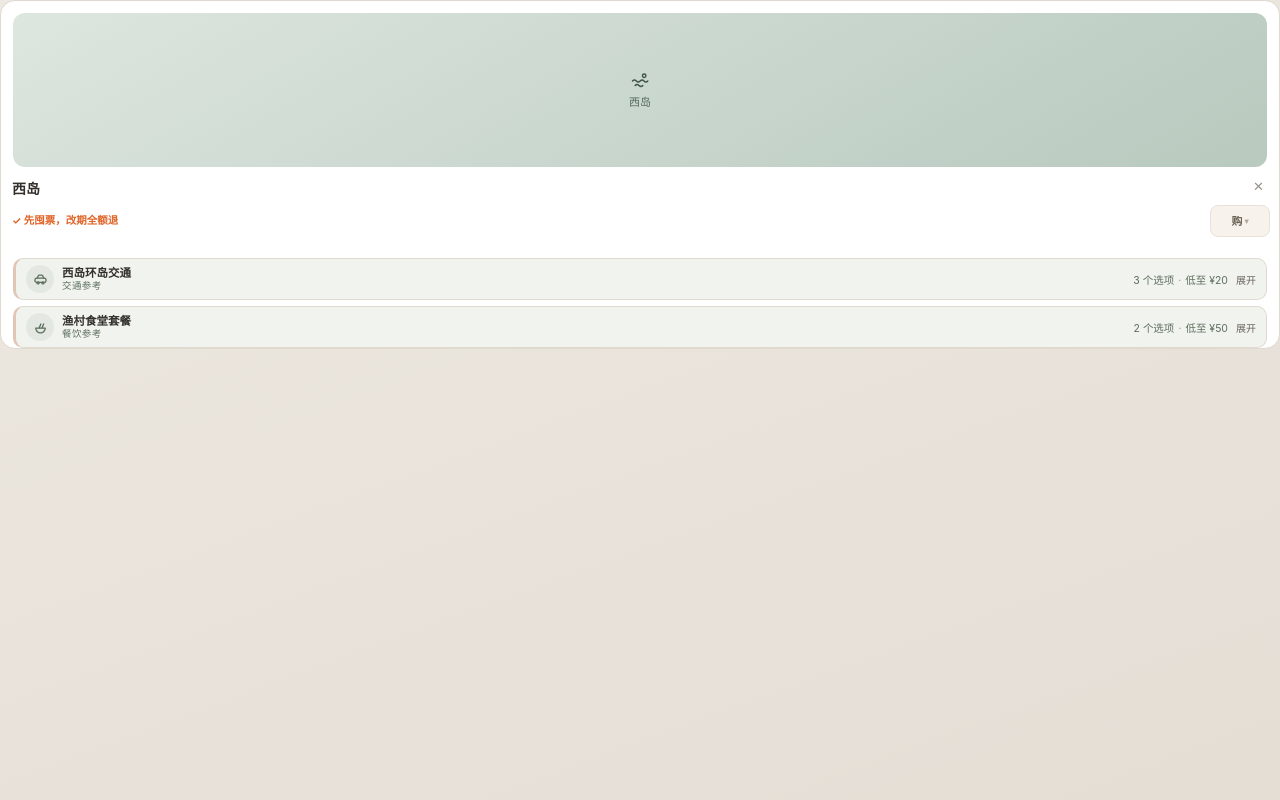
VisitCard 实用参考选项组（任务 190） › 多主题组各一张卡；非交通分类 chip（餐饮）；父卡同样渲染
The image size is (1280, 800).
Check: the number of elements with class "option-group" is 2, box [13,258,1267,300]; [13,306,1267,348]
Check: the text "西岛环岛交通" is shown, box [62,266,131,280]
// 非交通分类在展开态显示中文 chip
Click the button with class "og-head" showing "西岛环岛交通 交通参考 3 个选项 低至 ¥20 展开": (96, 273) [16,259,1266,299]
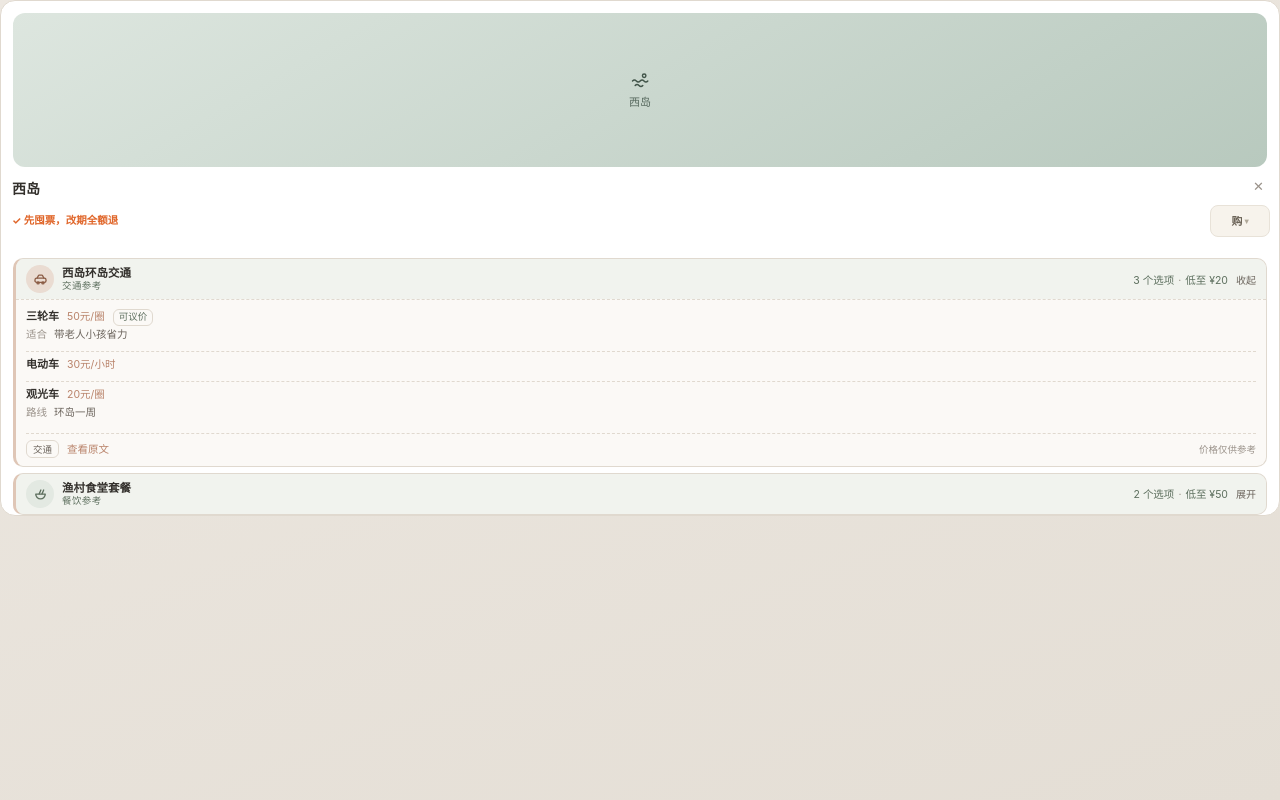
Click the button with class "og-head" showing "渔村食堂套餐 餐饮参考 2 个选项 低至 ¥50 展开": (96, 488) [16,474,1266,514]
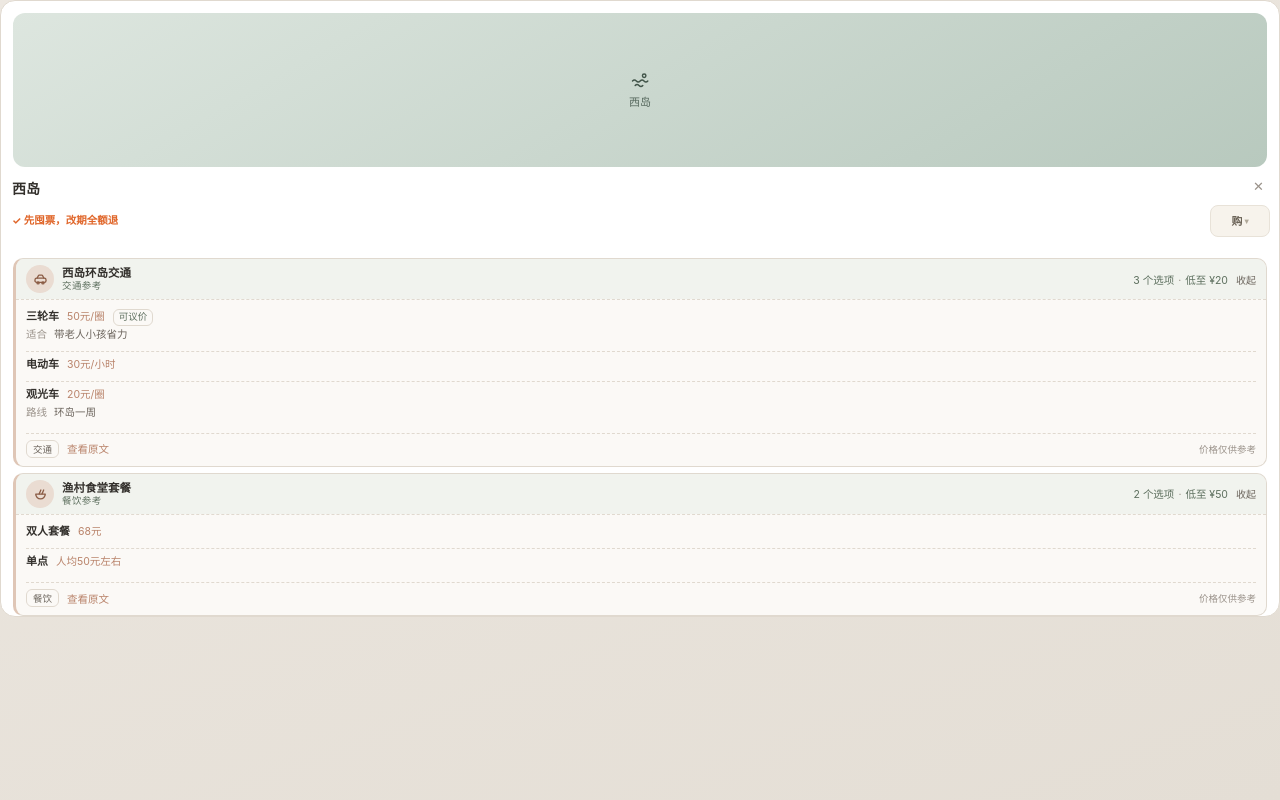
Check: the element with class "option-groups" is shown, box [13,258,1267,616]
Check: the text "餐饮" is shown, box [26,589,59,607]
